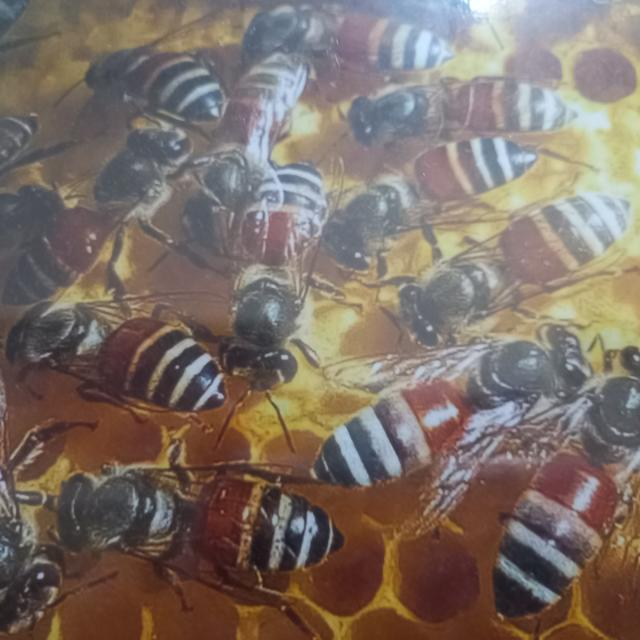honeybee: (303, 331, 570, 484), (498, 348, 640, 614), (374, 188, 640, 324), (54, 466, 346, 584), (10, 136, 201, 310), (2, 300, 223, 418), (320, 134, 536, 247), (221, 163, 322, 397), (180, 182, 362, 303), (225, 155, 323, 343), (346, 79, 570, 157), (235, 0, 450, 76), (202, 58, 308, 212), (0, 404, 67, 639), (71, 38, 224, 132), (0, 181, 73, 266), (0, 106, 43, 166)
